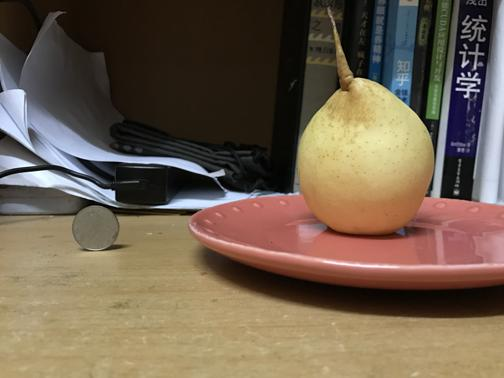coin: (71, 207, 119, 250)
pear: (299, 77, 431, 235)
